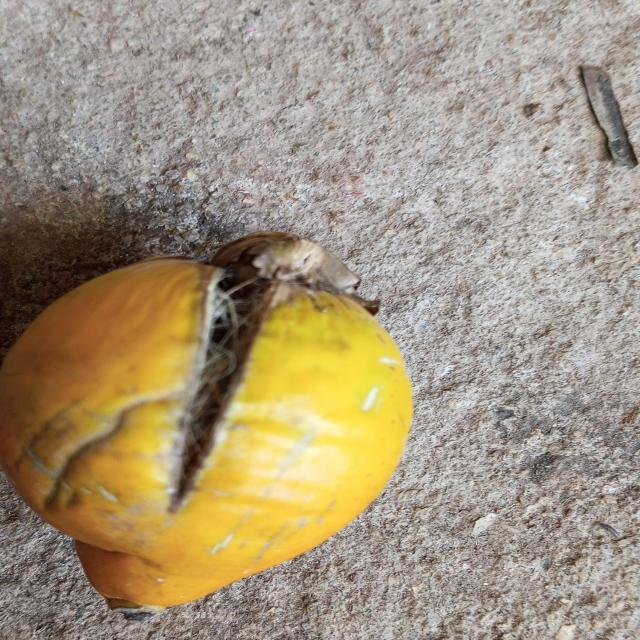damaged: (0, 233, 414, 611)
